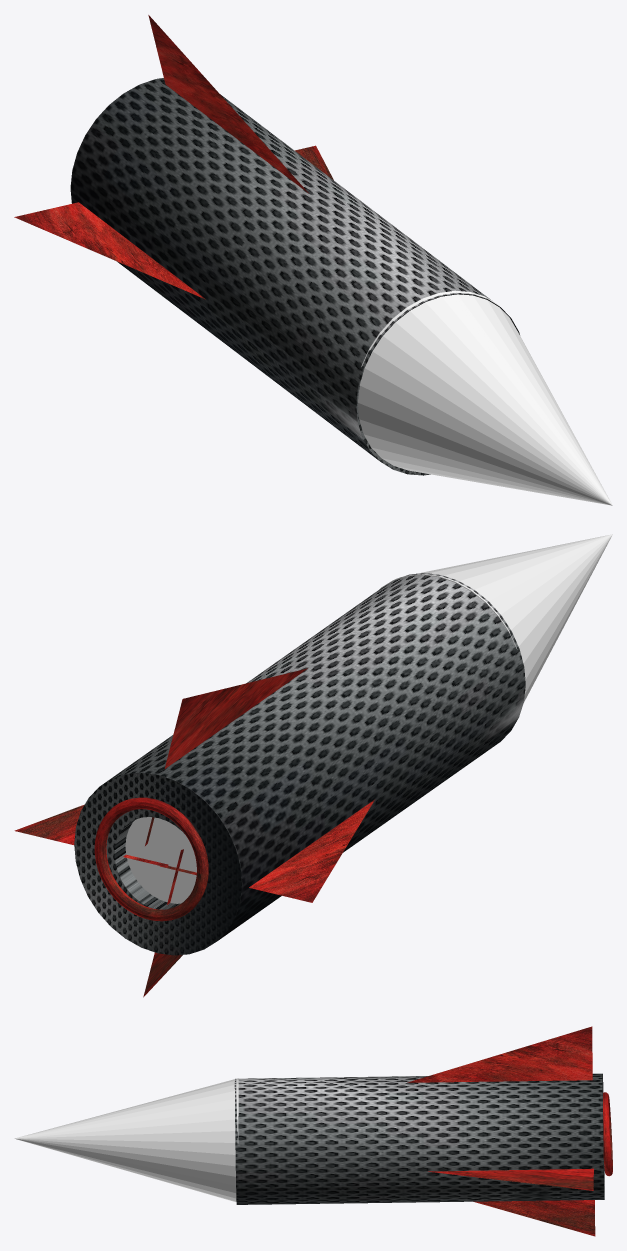
File: misil.glb
3 views of the same model, one above another, from view 1: azimuth 30°, elevation 25°; view 2: azimuth 150°, elevation 25°; view 3: azimuth 270°, elevation 25° (orthographic). The views are drawn at different scales.
Parts seen in each view (by area): view 1: Cylinder.001; view 2: Cylinder.001; view 3: Cylinder.001.
Boxes of the visible parts, left/top/right/bottom form: Cylinder.001: left=14, top=15, right=612, bottom=505; Cylinder.001: left=14, top=534, right=612, bottom=997; Cylinder.001: left=14, top=1026, right=612, bottom=1236.
Size of the model in its own units: 0.8686 by 0.8494 by 2.32.
8 materials, 6 textured.
